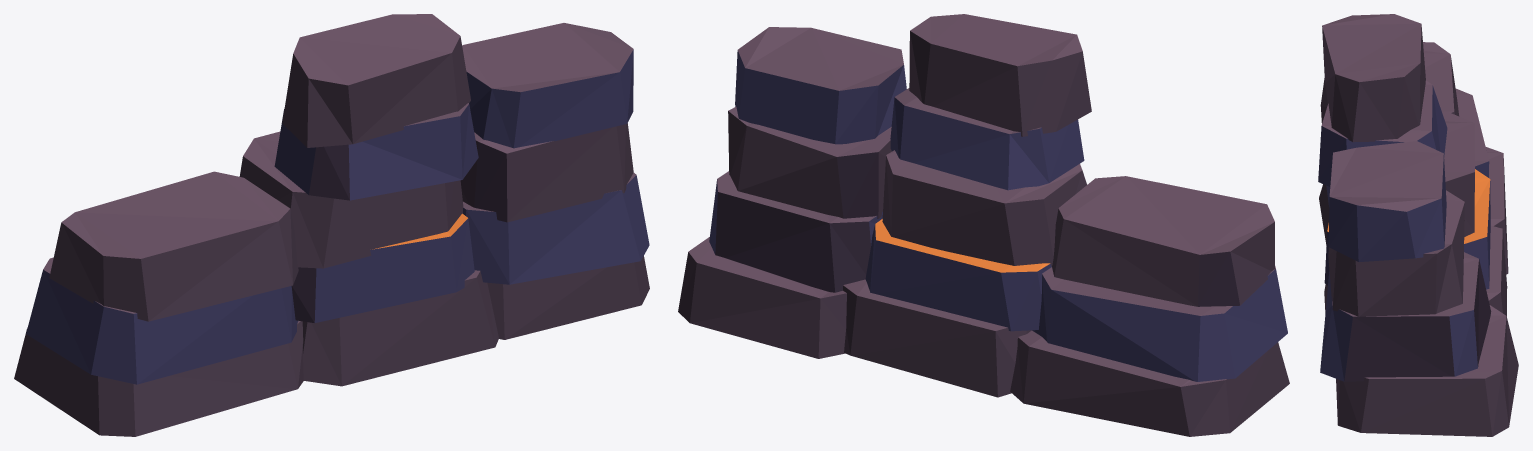
Rendered from rock_wall_vent.fbx.
3 views of the same model, side by side, from view 1: azimuth 30°, elevation 25°; view 2: azimuth 150°, elevation 25°; view 3: azimuth 270°, elevation 25° (orthographic). The views are drawn at different scales.
Visible parts, largest first — view 1: rock_wall_vent; view 2: rock_wall_vent; view 3: rock_wall_vent.
Part boxes in pixels (left/top/right/bottom): rock_wall_vent: left=14, top=14, right=649, bottom=436; rock_wall_vent: left=678, top=14, right=1289, bottom=436; rock_wall_vent: left=1318, top=14, right=1518, bottom=436.
Bounding box in the file's own units: 3588 × 1844 × 1218.
Materials: 1 (1 with a texture image).
